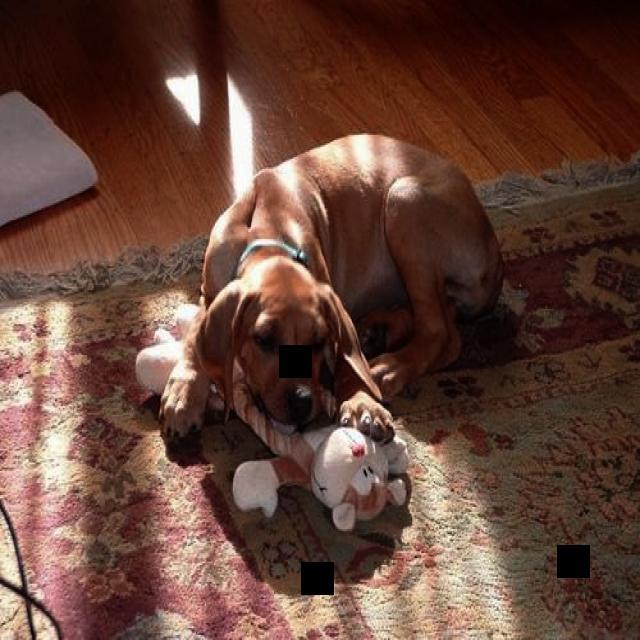adult_dog: (158, 132, 506, 444)
